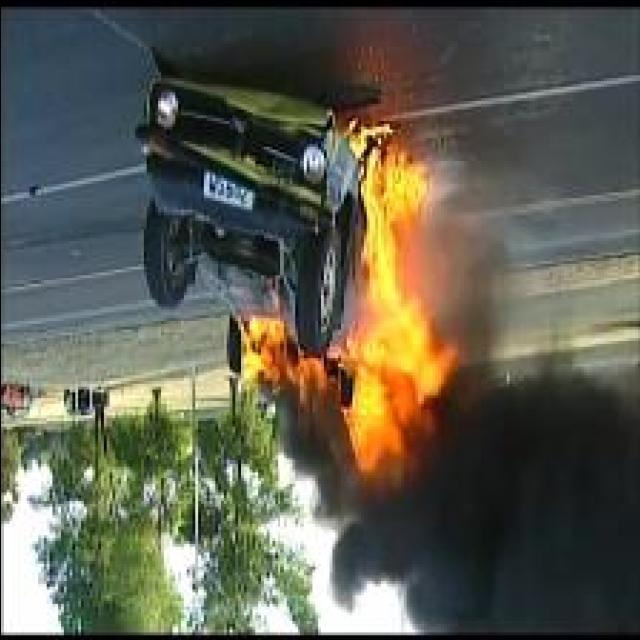Fire: (332, 120, 458, 474), (233, 319, 327, 407)
